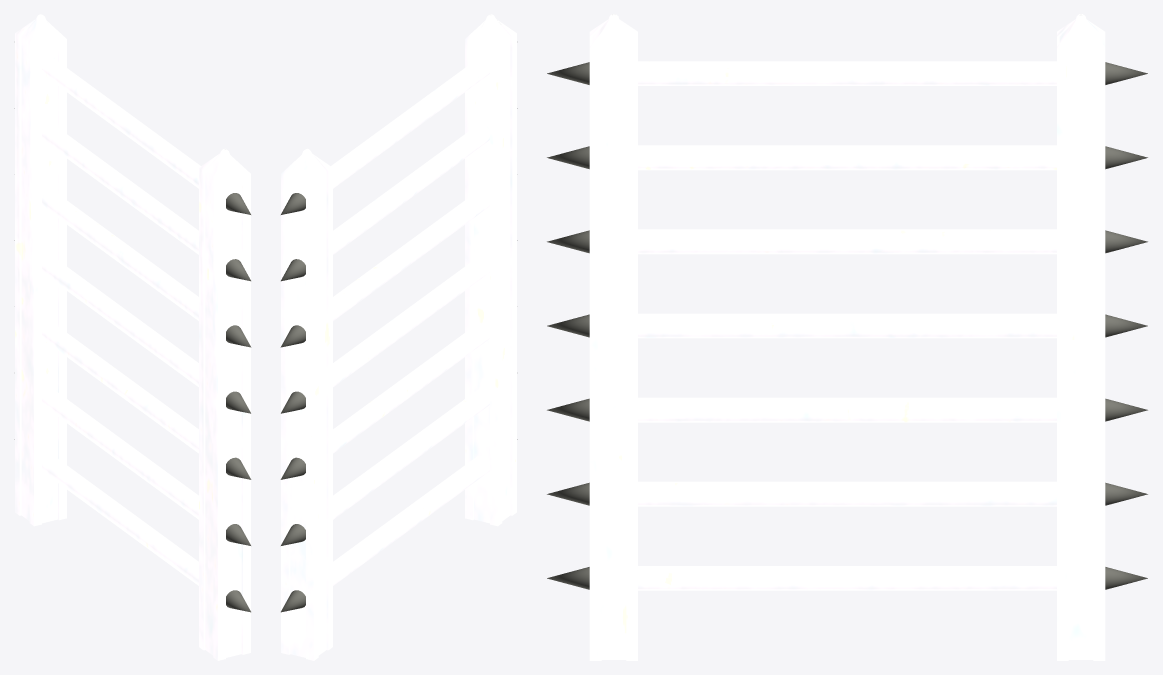
Rendered from CA_016_iron_ladder_var1.glb.
3 views of the same model, side by side, from view 1: azimuth 30°, elevation 25°; view 2: azimuth 150°, elevation 25°; view 3: azimuth 270°, elevation 25° (orthographic). The views are drawn at different scales.
Parts seen in each view (by area): view 1: ladder_support, ladder_bars, spikes; view 2: ladder_support, ladder_bars, spikes; view 3: ladder_bars, ladder_support, spikes.
Part boxes in pixels (box(x1,y1,x2,y2)): ladder_support: box(15, 14, 250, 660); ladder_bars: box(42, 58, 200, 585); spikes: box(14, 108, 251, 612); ladder_support: box(281, 14, 516, 660); ladder_bars: box(331, 58, 489, 585); spikes: box(280, 108, 517, 612); ladder_bars: box(638, 61, 1056, 590); ladder_support: box(589, 14, 1105, 660); spikes: box(547, 62, 1147, 589).
Bounding box in the file's own units: 0.18 × 2.62 × 2.25.
2 materials, 1 textured.
